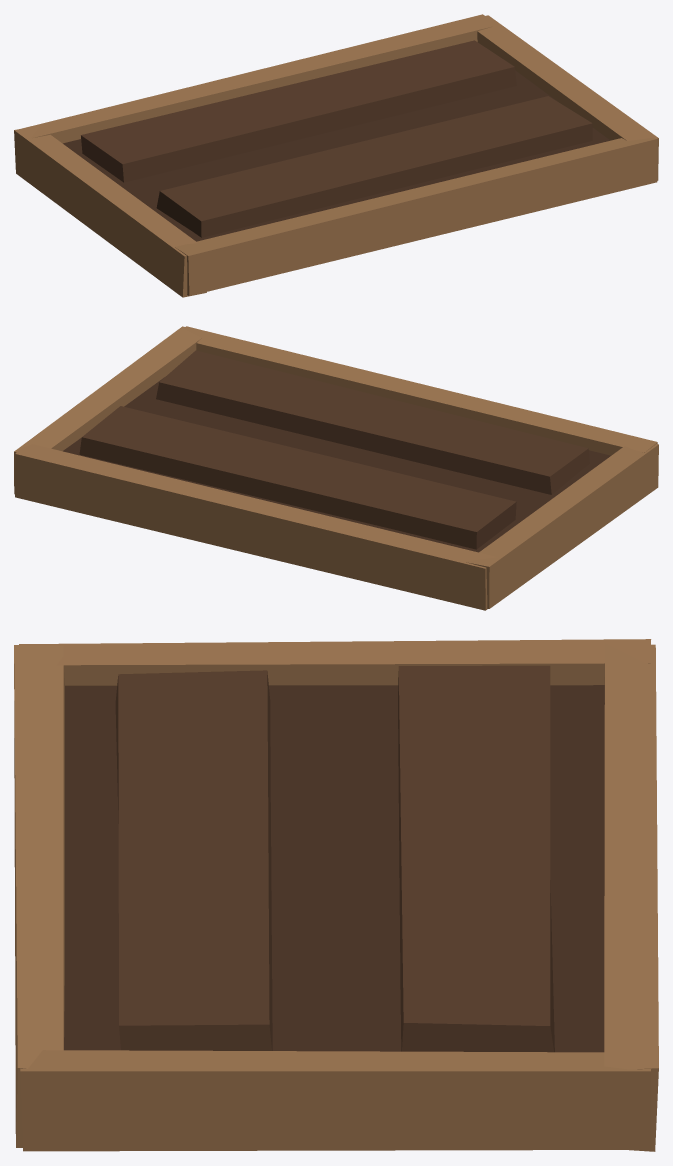
File: field_small.glb
The picture shows the model from 3 angles, top to bottom: view 1: azimuth 30°, elevation 25°; view 2: azimuth 150°, elevation 25°; view 3: azimuth 270°, elevation 25°; orthographic projection. The views are drawn at different scales.
Visible parts, largest first — view 1: field_small; view 2: field_small; view 3: field_small.
Part boxes in pixels (bbox=[...]): field_small: bbox=[14, 14, 658, 297]; field_small: bbox=[14, 326, 658, 610]; field_small: bbox=[14, 639, 658, 1151].
Bounding box in the file's own units: 1.63 × 0.1665 × 1.03.
